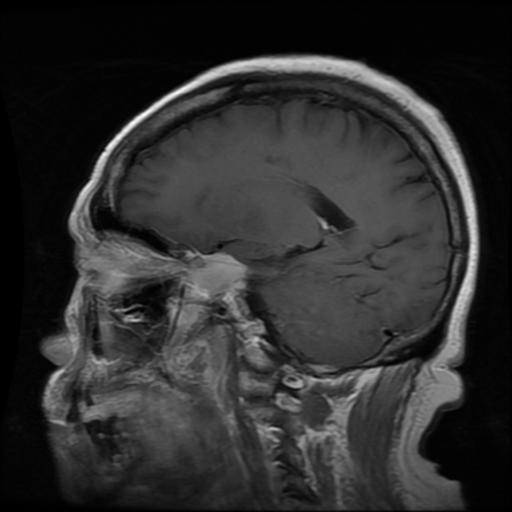Menigiomia_tumour: (187, 252, 247, 295)
